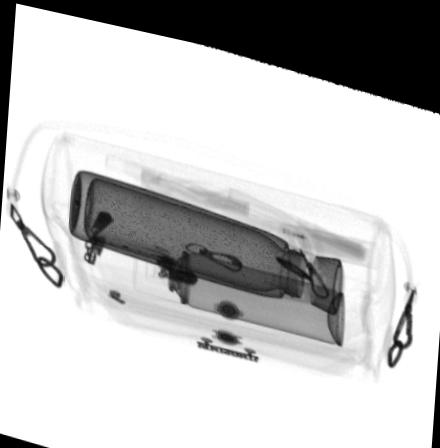Lighter: (279, 207, 375, 250)
Sprayer: (132, 236, 344, 330)
